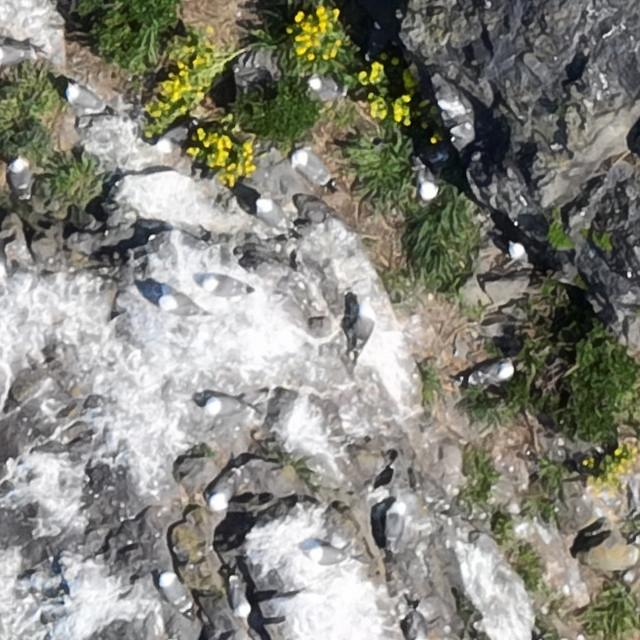umineko: (210, 465, 245, 515), (252, 198, 296, 232), (409, 158, 441, 202), (202, 274, 254, 301), (385, 502, 409, 550), (304, 75, 348, 101), (297, 154, 330, 185), (68, 86, 103, 110), (473, 362, 512, 383), (160, 574, 184, 606), (156, 126, 188, 148), (10, 159, 30, 192), (355, 307, 373, 343), (139, 284, 169, 305), (309, 546, 343, 564), (207, 398, 238, 415), (1, 46, 29, 64), (232, 586, 247, 617), (508, 241, 526, 262)
